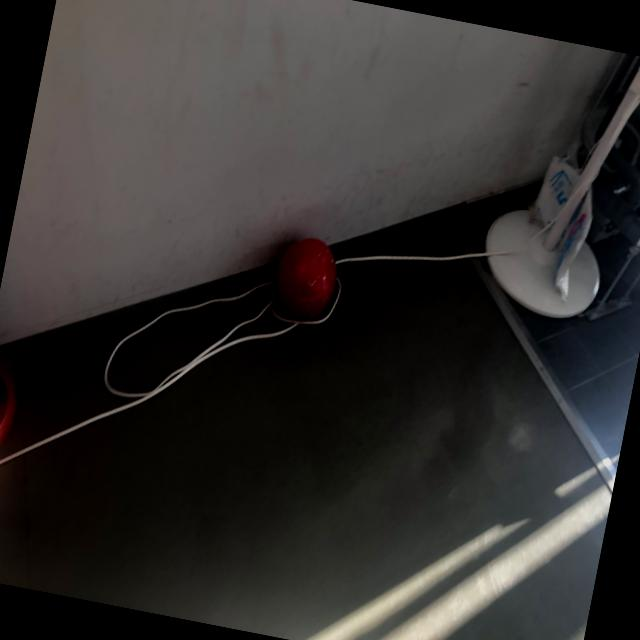red_ball: (266, 230, 346, 334)
